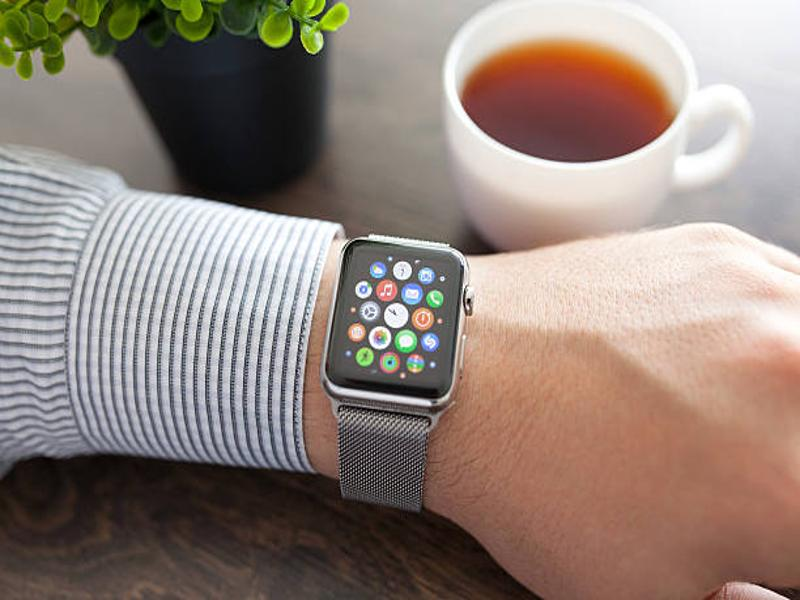watch: (323, 232, 472, 518)
